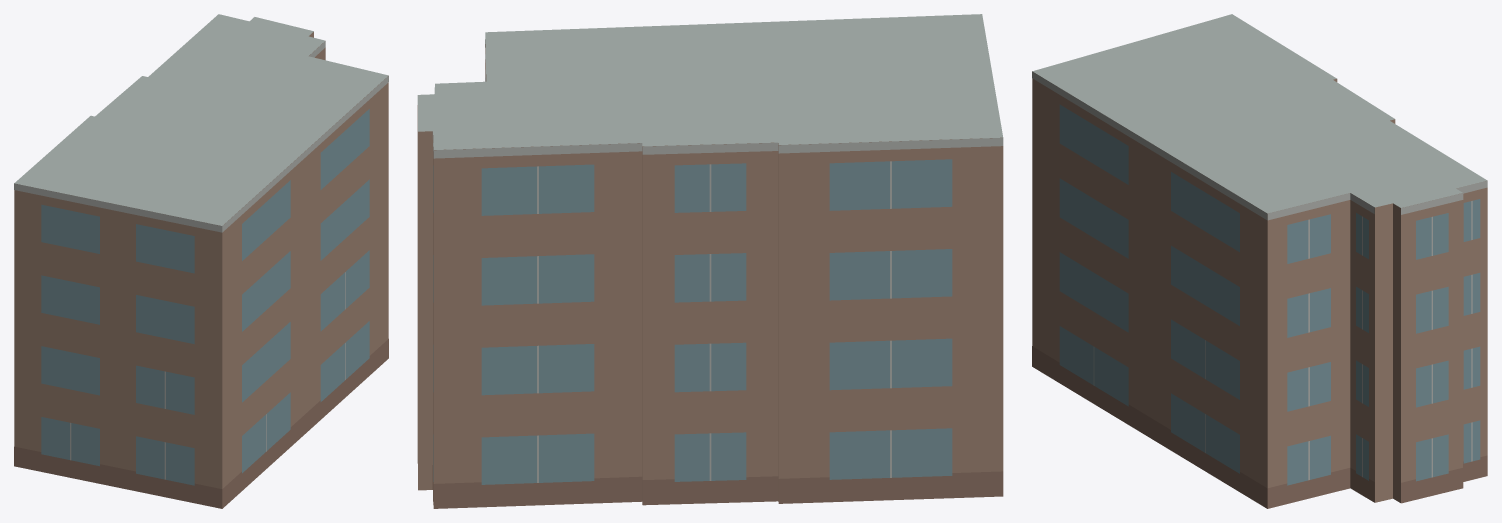
The model's file is survey-upis-32889061.glb.
3 views of the same model, side by side, from view 1: azimuth 30°, elevation 25°; view 2: azimuth 150°, elevation 25°; view 3: azimuth 270°, elevation 25° (orthographic). The views are drawn at different scales.
Visible parts, largest first — view 1: survey-upis-32889061.tmp; view 2: survey-upis-32889061.tmp; view 3: survey-upis-32889061.tmp.
Part boxes in pixels (bbox=[...]): survey-upis-32889061.tmp: bbox=[14, 14, 388, 508]; survey-upis-32889061.tmp: bbox=[417, 14, 1003, 508]; survey-upis-32889061.tmp: bbox=[1032, 14, 1487, 508].
Bounding box in the file's own units: 15.08 × 10.4 × 14.54.
